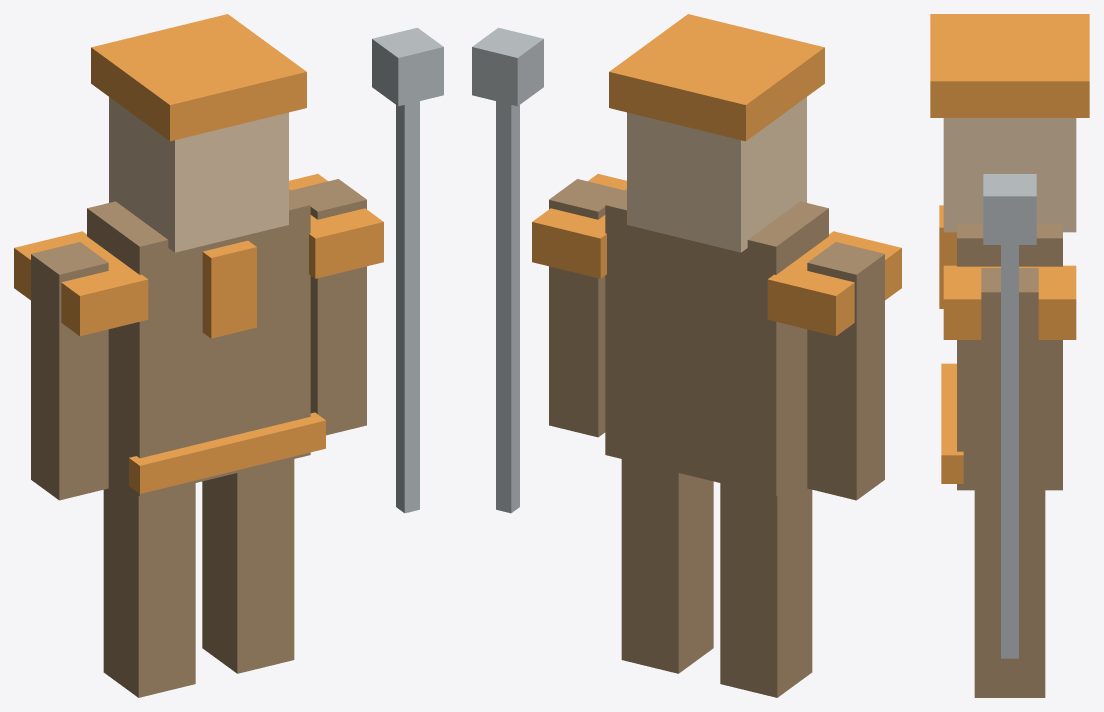
File: 10_eryk_rootborne_responder_of_summit.glb
3 views of the same model, side by side, from view 1: azimuth 30°, elevation 25°; view 2: azimuth 150°, elevation 25°; view 3: azimuth 270°, elevation 25° (orthographic).
Visible parts, largest first — view 1: Eryk Rootborne, Responder of Summit; view 2: Eryk Rootborne, Responder of Summit; view 3: Eryk Rootborne, Responder of Summit.
Part boxes in pixels (x1,y1,x2,y2): Eryk Rootborne, Responder of Summit: (14, 14, 443, 697); Eryk Rootborne, Responder of Summit: (472, 14, 901, 697); Eryk Rootborne, Responder of Summit: (930, 14, 1089, 697).
Bounding box in the file's own units: 1.03 × 1.55 × 0.3648.
